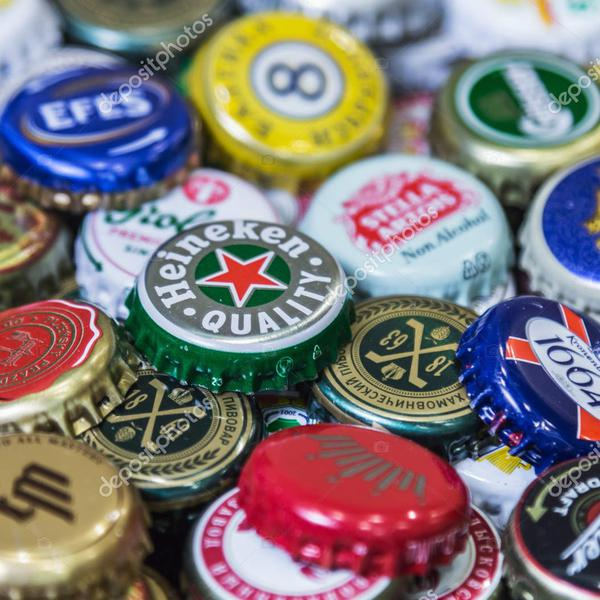heineken: (133, 215, 356, 370)
